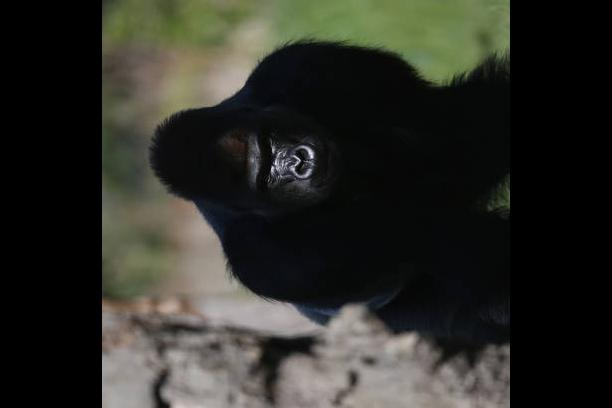gorille_Autres: (141, 30, 509, 324)
